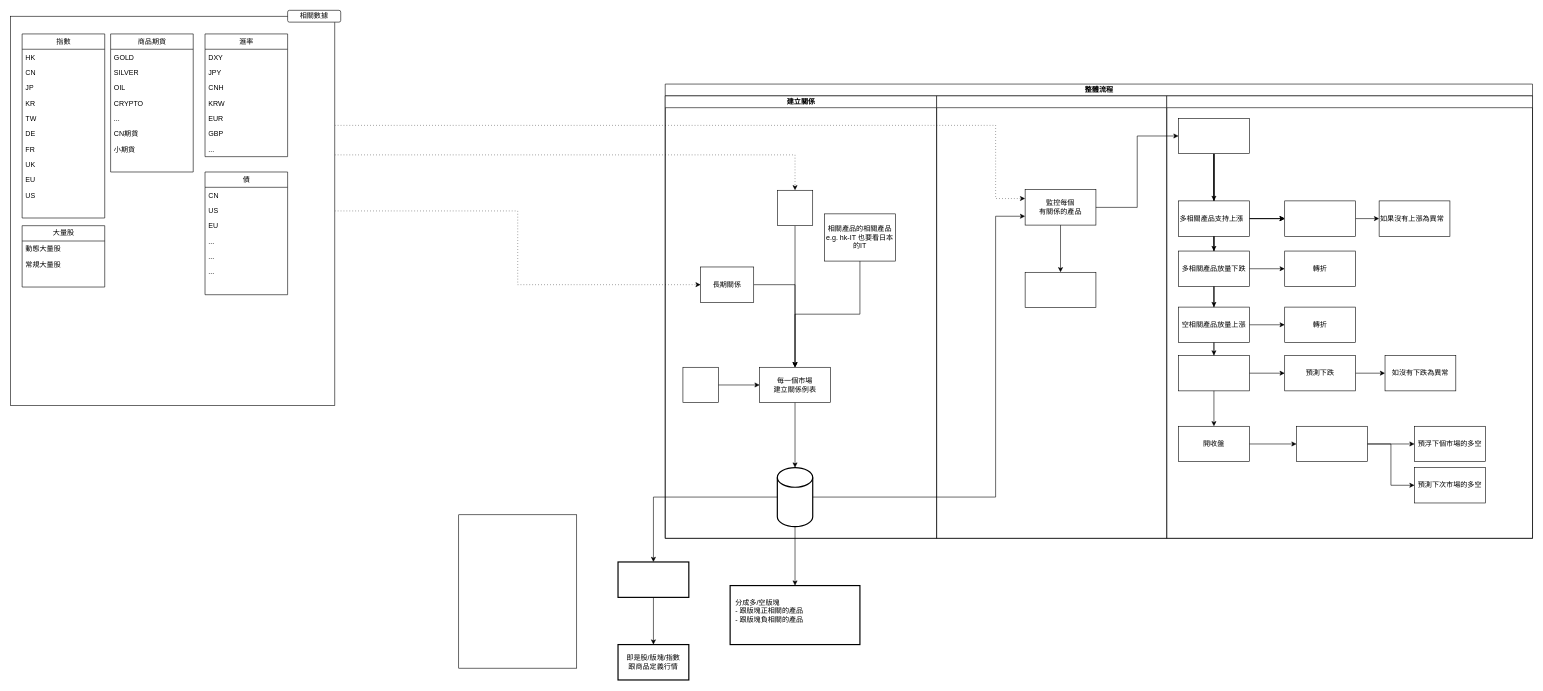
Image size: 1543x691. Some labels were removed from this diagram. Each missing label, with the box of its shape:
- 波幅 - 放量: (1025, 272, 1096, 308)
HK 例子： - IT 為多 - IT 負相關於白銀 - 芯片正相關於白銀 - F 為空 - F 正相關於DXY - F 正相關於BTC: (458, 514, 577, 668)
人工輸入: (682, 367, 718, 403)
多空的凍結: (1296, 426, 1367, 462)
定義行情: 股, 版塊, 指數...: (617, 561, 689, 598)
監控產品: (936, 95, 1167, 538)
空相關產品支持下跌: (1178, 355, 1249, 391)
管理行情: (1178, 118, 1249, 154)
量價相關: (777, 190, 813, 226)
關係例表: (776, 467, 813, 527)
預測上漲: (1284, 200, 1356, 236)
預測型態: (1166, 95, 1533, 538)
